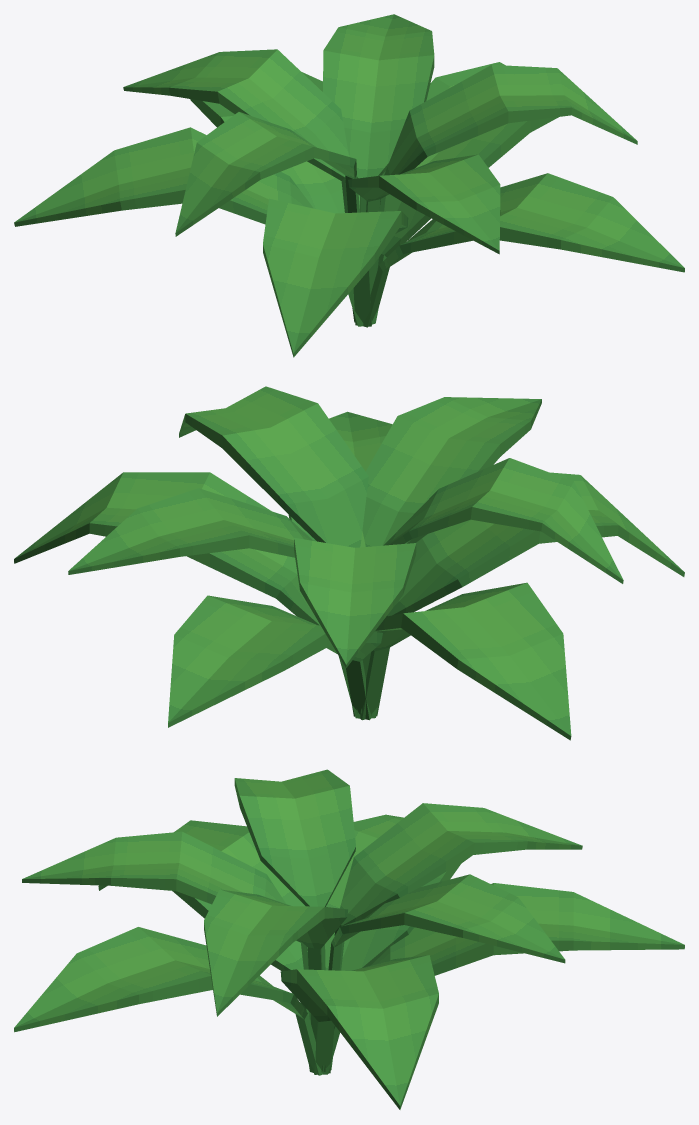
The model's file is Plant_006.fbx.
3 views of the same model, one above another, from view 1: azimuth 30°, elevation 25°; view 2: azimuth 150°, elevation 25°; view 3: azimuth 270°, elevation 25° (orthographic). The views are drawn at different scales.
Visible parts, largest first — view 1: Plant.006; view 2: Plant.006; view 3: Plant.006.
Boxes of the visible parts, x1,y1,x2,y2 form: Plant.006: (14,14,684,357); Plant.006: (14,386,684,740); Plant.006: (14,769,684,1109).
Bounding box in the file's own units: 1.08 × 0.4287 × 1.13.
